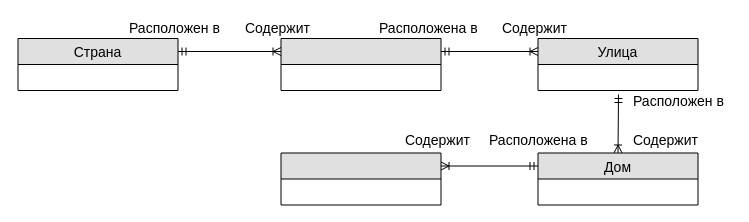
The diagram is 749 pixels wide and 222 high, and some of its shapes have lost their labels. The shapes that lost their labels are listed below. From the top down, each one's centre as x and y in pixels, then its label:
At (x=360, y=64): "Город".
At (x=360, y=178): "Квартира".
